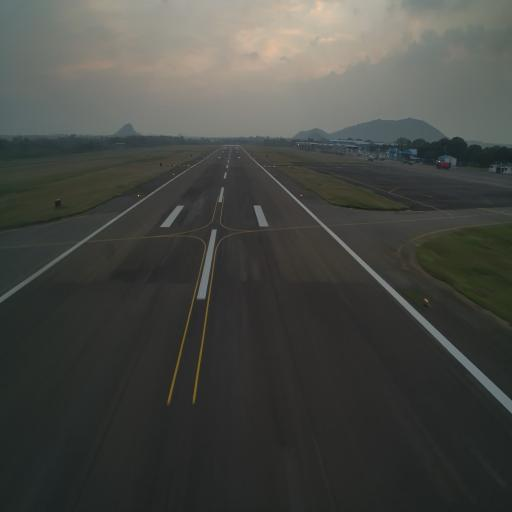on: (422, 295, 430, 308), (136, 192, 142, 199), (298, 193, 302, 199)
